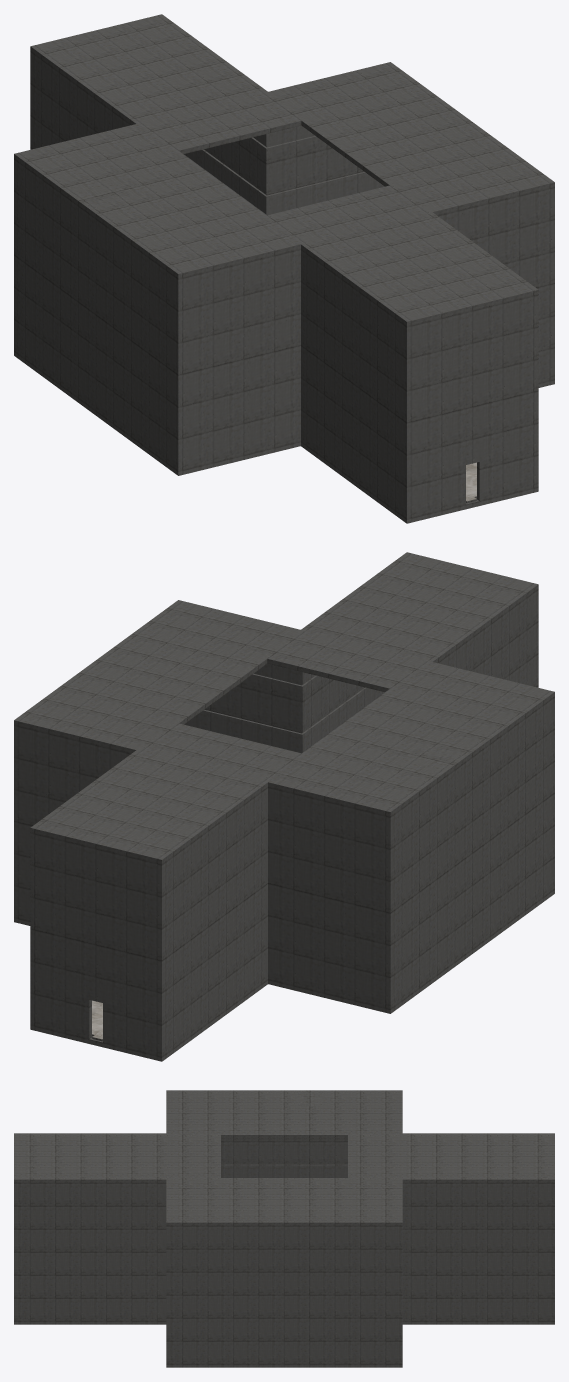
The model's file is chamber2.gltf.
The picture shows the model from 3 angles, top to bottom: view 1: azimuth 30°, elevation 25°; view 2: azimuth 150°, elevation 25°; view 3: azimuth 270°, elevation 25°; orthographic projection. The views are drawn at different scales.
Visible parts, largest first — view 1: chamber_2; view 2: chamber_2; view 3: chamber_2.
Boxes of the visible parts, x1,y1,x2,y2 form: chamber_2: (14, 14, 554, 523); chamber_2: (14, 552, 554, 1061); chamber_2: (14, 1090, 554, 1367).
Size of the model in its own units: 4.1 by 2.1 by 7.1.
